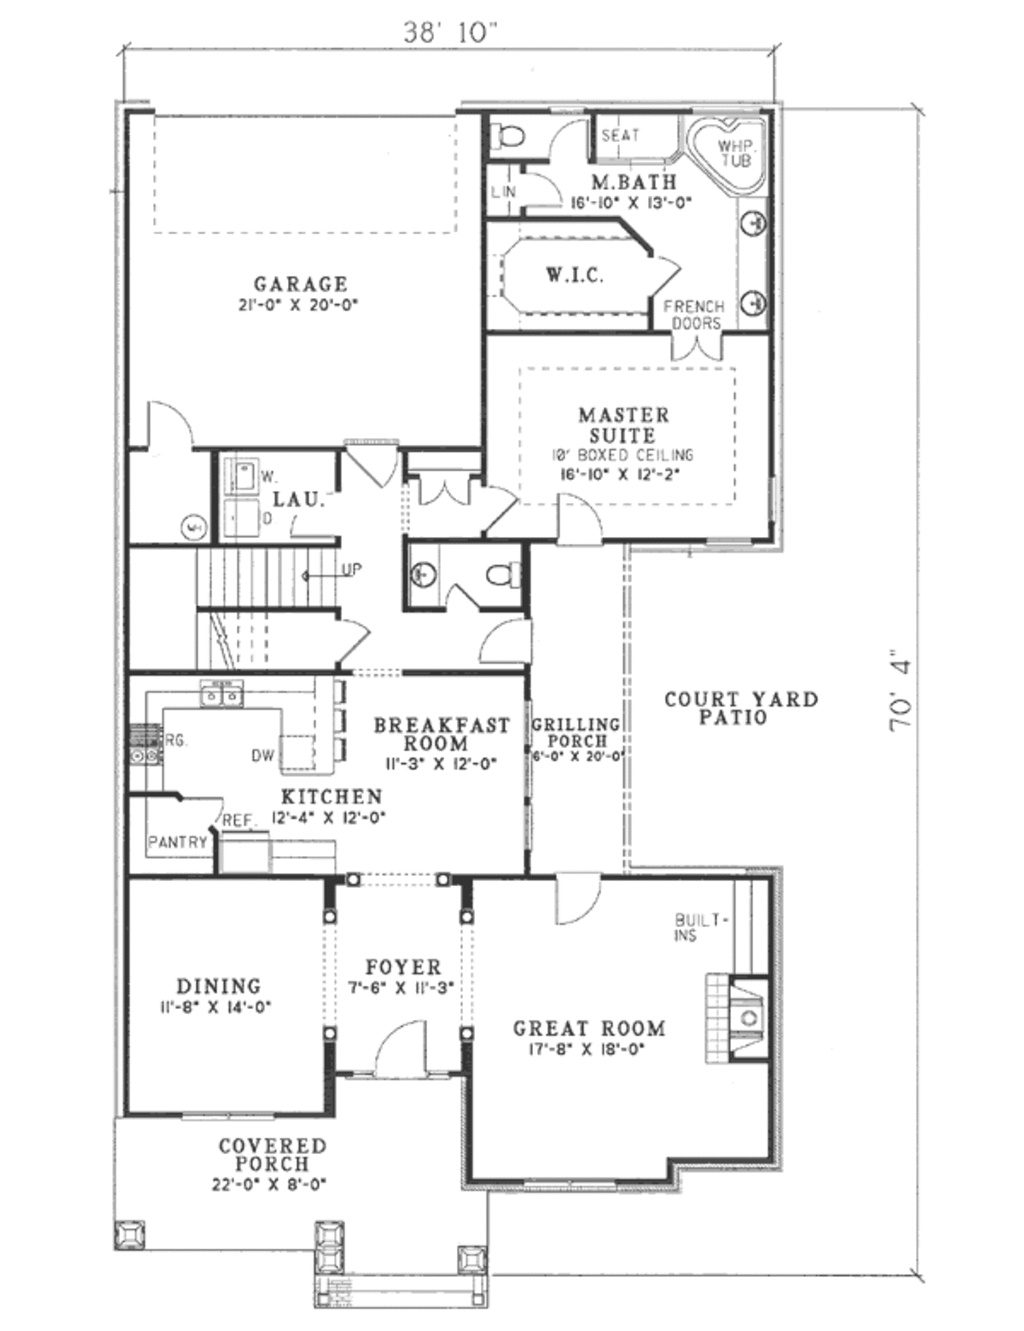door: (367, 1005, 433, 1082), (308, 609, 386, 673), (138, 398, 215, 450), (553, 868, 615, 931), (471, 619, 543, 672), (662, 324, 738, 372), (547, 484, 602, 550), (515, 162, 574, 224), (289, 487, 341, 545), (642, 249, 686, 305), (406, 472, 475, 506), (477, 482, 512, 535), (175, 795, 224, 832), (547, 114, 583, 164), (439, 586, 482, 616)
kitchen_bar: (134, 676, 362, 799)
large_sink: (478, 109, 538, 169), (483, 554, 545, 587)
small_sink: (731, 190, 765, 324), (400, 547, 441, 610)
stairs: (189, 536, 350, 676)
twin_sink: (193, 679, 252, 717)
window: (517, 1168, 620, 1190), (168, 1105, 268, 1128), (700, 525, 757, 553)
